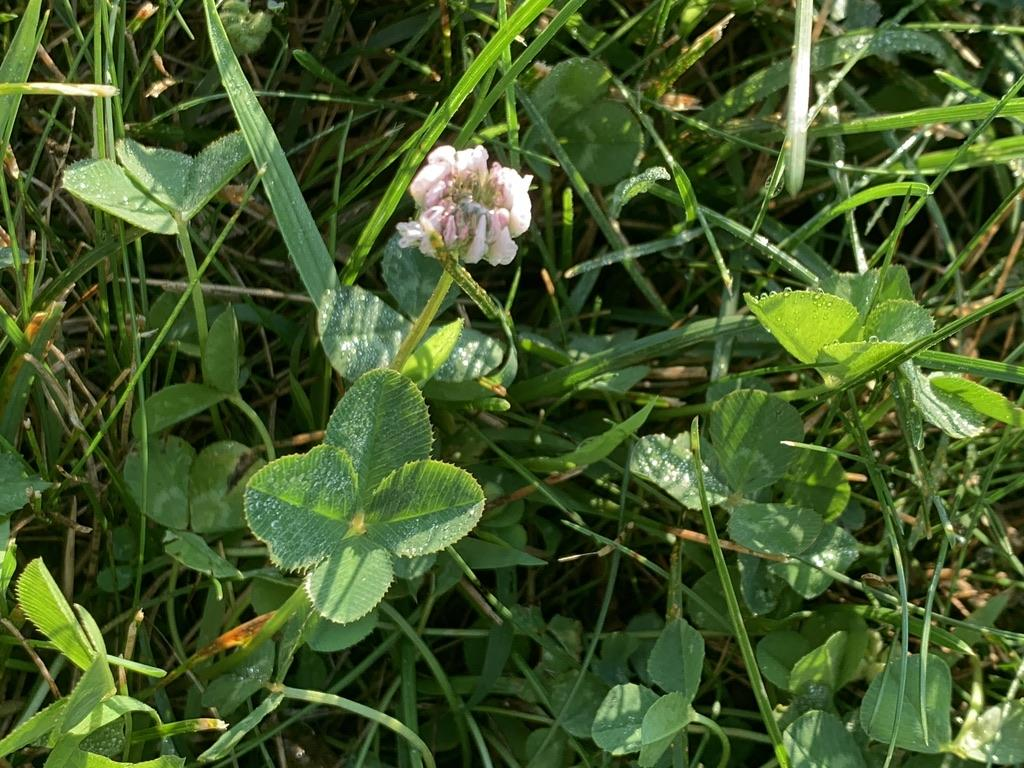4-Leaf-Clovers: (504, 401, 831, 586)
